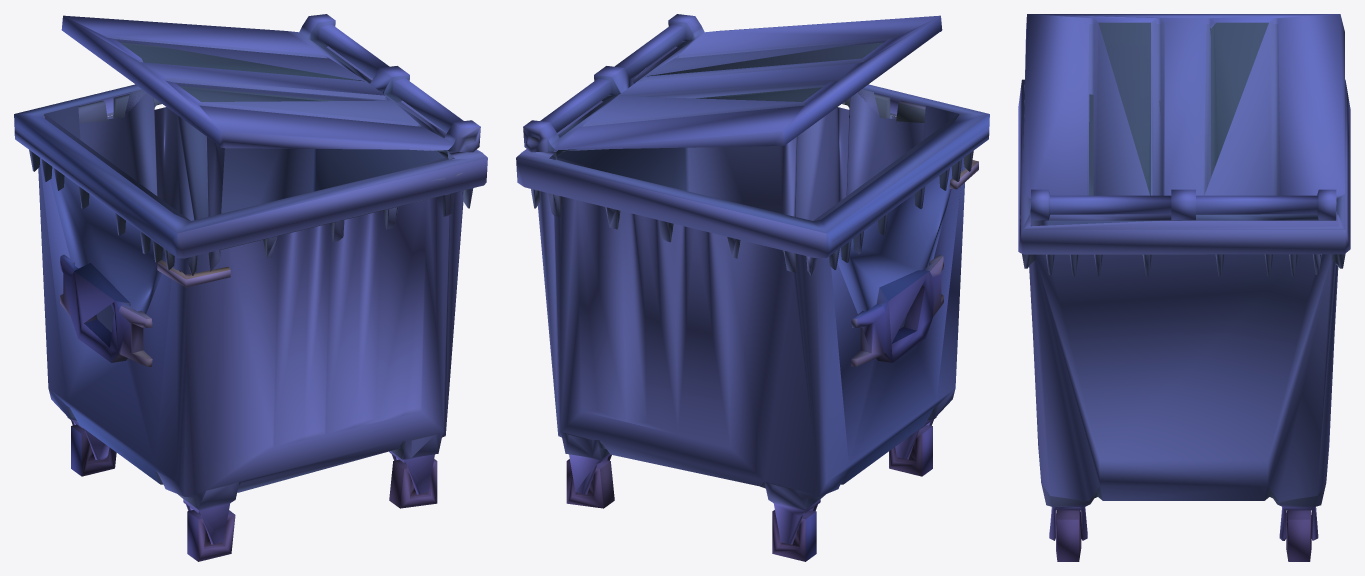
The model's file is model.progressive.glb.
3 renders of one model, left to right at view 1: azimuth 30°, elevation 25°; view 2: azimuth 150°, elevation 25°; view 3: azimuth 270°, elevation 25°, orthographic.
Parts seen in each view (by area): view 1: Dumpster2; view 2: Dumpster2; view 3: Dumpster2.
Part boxes in pixels (x1,y1,x2,y2): Dumpster2: [14, 14, 487, 561]; Dumpster2: [516, 14, 989, 561]; Dumpster2: [1018, 14, 1350, 561].
Bounding box in the file's own units: 1.38 × 1.86 × 1.28.
Materials: 1 (1 with a texture image).
